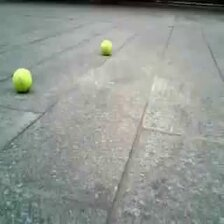tennis: (12, 69, 32, 91), (100, 40, 113, 53)
